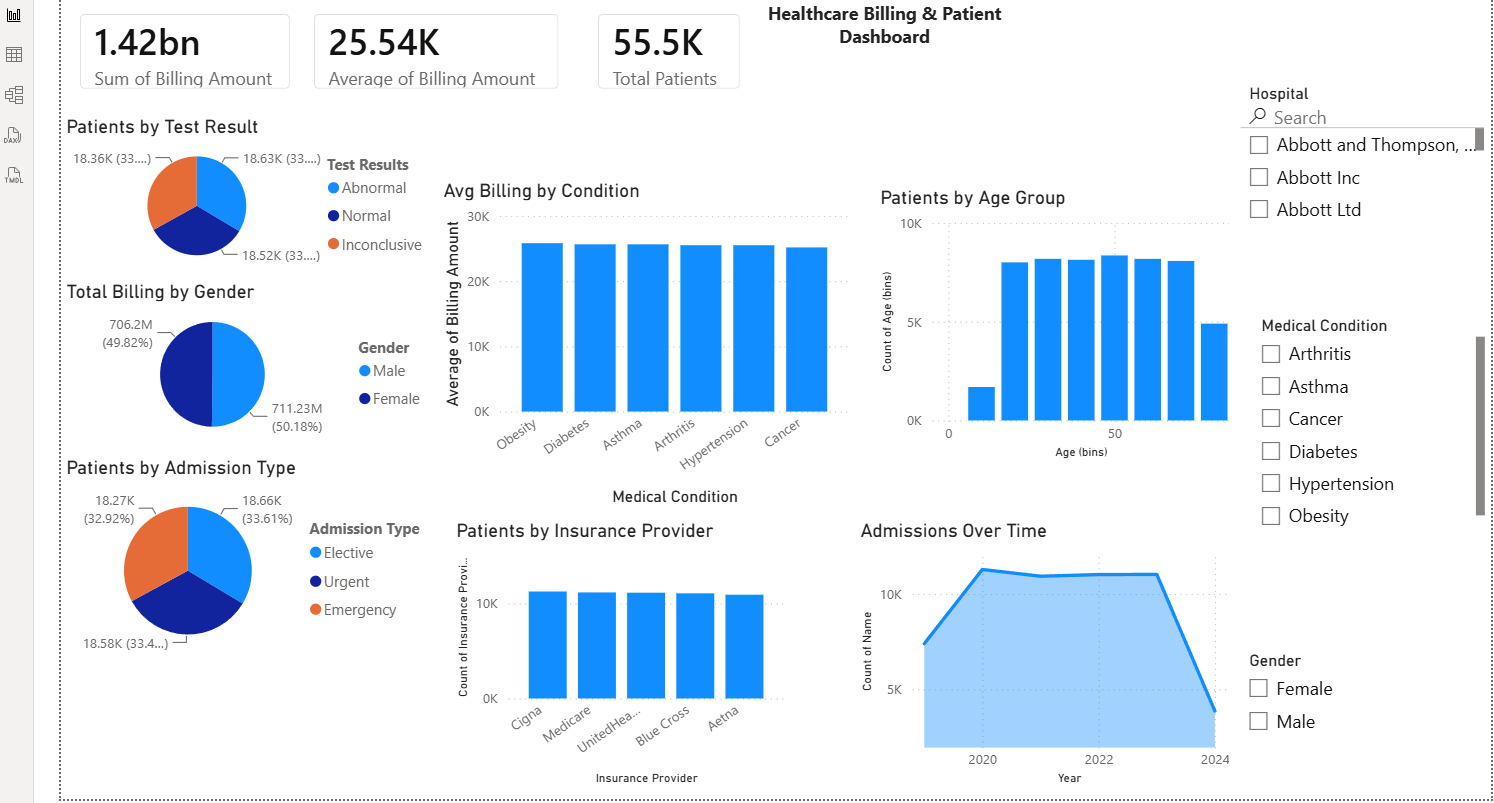

What the dashboard file says about the page in this screenshot:
{"tool":"powerbi","page":{"name":"Page 1","canvas":[1280,720],"ordinal":0},"visuals":[{"type":"columnChart","title":"Avg Billing by Condition","fields":{"Y":["Avg(healthcare_dataset.Billing Amount)"],"Category":["healthcare_dataset.Medical Condition"]},"box":[337.3,164.5,373.6,297.3],"z":0},{"type":"cardVisual","fields":{"Data":["CountNonNull(healthcare_dataset.Admission Type)"]},"box":[463.6,0,161.8,101.8],"z":1000},{"type":"cardVisual","fields":{"Data":["Sum(healthcare_dataset.Billing Amount)"]},"box":[0,0,222.7,101.8],"z":2000},{"type":"cardVisual","fields":{"Data":["Avg(healthcare_dataset.Billing Amount)"]},"box":[210,0,253.6,101.8],"z":3000},{"type":"pieChart","title":"Total Billing by Gender","fields":{"Category":["healthcare_dataset.Gender"],"Y":["Sum(healthcare_dataset.Billing Amount)"]},"box":[0,255.5,337.3,150],"z":4000},{"type":"pieChart","title":"Patients by Test Result","fields":{"Category":["healthcare_dataset.Test Results"],"Y":["CountNonNull(healthcare_dataset.Test Results)"]},"box":[0,107.3,337.3,143.6],"z":5000},{"type":"pieChart","title":"Patients by Admission Type","fields":{"Category":["healthcare_dataset.Admission Type"],"Y":["CountNonNull(healthcare_dataset.Admission Type)"]},"box":[0,412.7,337.3,186.4],"z":6000},{"type":"clusteredColumnChart","title":"Patients by Insurance Provider","fields":{"Category":["healthcare_dataset.Insurance Provider"],"Y":["CountNonNull(healthcare_dataset.Insurance Provider)"]},"box":[349.1,469.1,303.6,242.7],"z":7000},{"type":"clusteredColumnChart","title":"Patients by Age Group","fields":{"Category":["healthcare_dataset.Age (bins)"],"Y":["CountNonNull(healthcare_dataset.Age (bins))"]},"box":[729,171,322.4,249],"z":8000},{"type":"slicer","fields":{"Values":["healthcare_dataset.Hospital"]},"box":[1051.3,75.2,228.4,133.4],"z":9000},{"type":"slicer","fields":{"Values":["healthcare_dataset.Gender"]},"box":[1051.3,583,228.4,86],"z":10000},{"type":"slicer","fields":{"Values":["healthcare_dataset.Medical Condition"]},"box":[1062.1,283,217.6,199.7],"z":11000},{"type":"textbox","box":[612.7,0,250,59.1],"z":12000},{"type":"areaChart","title":"Admissions Over Time","fields":{"Category":["healthcare_dataset.Date of Admission.Variation.Date Hierarchy.Year","healthcare_dataset.Date of Admission.Variation.Date Hierarchy.Quarter","healthcare_dataset.Date of Admission.Variation.Date Hierarchy.Month","healthcare_dataset.Date of Admission.Variation.Date Hierarchy.Day"],"Y":["CountNonNull(healthcare_dataset.Name)"]},"box":[711,469.3,340.3,242.7],"z":12001}]}

Visuals, with their boxes on the page's 1280x720 design canvas (x1, y1, x2, y2). These are canvas units, not pixel positions in the 1494x803 screenshot, which may show the page scaled, cropped or inside an application window:
"Avg Billing by Condition" columnChart: 337,164,711,462
cardVisual - CountNonNull(healthcare_dataset.Admission Type): 464,0,625,102
cardVisual - Sum(healthcare_dataset.Billing Amount): 0,0,223,102
cardVisual - Avg(healthcare_dataset.Billing Amount): 210,0,464,102
"Total Billing by Gender" pieChart: 0,256,337,406
"Patients by Test Result" pieChart: 0,107,337,251
"Patients by Admission Type" pieChart: 0,413,337,599
"Patients by Insurance Provider" clusteredColumnChart: 349,469,653,712
"Patients by Age Group" clusteredColumnChart: 729,171,1051,420
slicer - healthcare_dataset.Hospital: 1051,75,1280,209
slicer - healthcare_dataset.Gender: 1051,583,1280,669
slicer - healthcare_dataset.Medical Condition: 1062,283,1280,483
textbox: 613,0,863,59
"Admissions Over Time" areaChart: 711,469,1051,712
